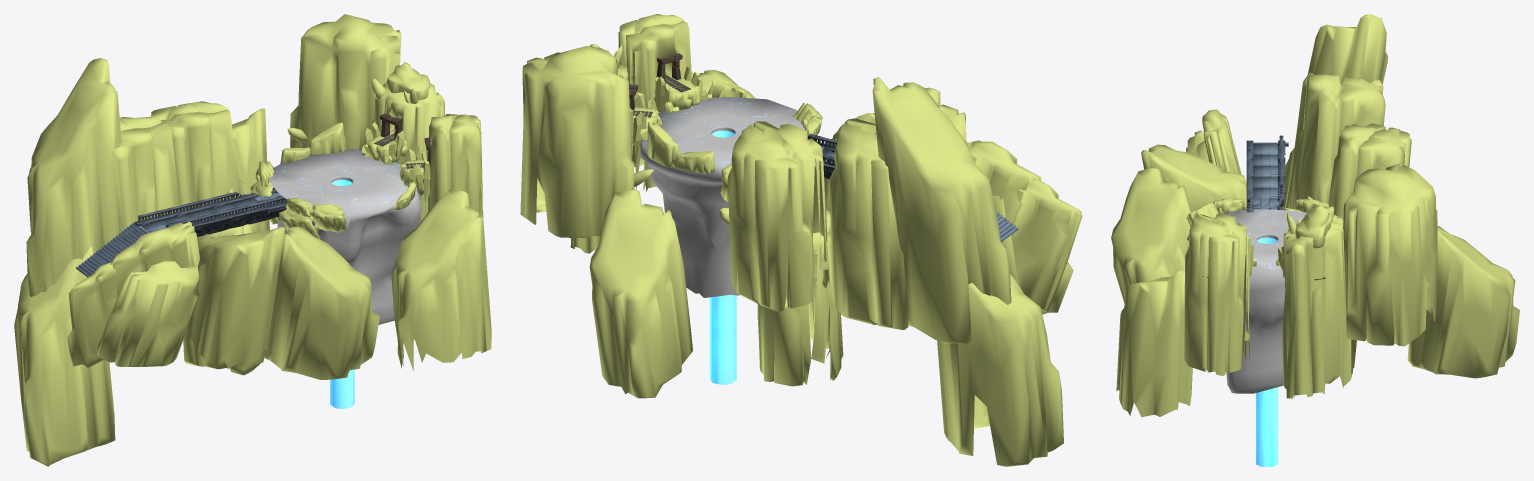
File: Boss1FG_New.fbx
The picture shows the model from 3 angles, left to right: view 1: azimuth 30°, elevation 25°; view 2: azimuth 150°, elevation 25°; view 3: azimuth 270°, elevation 25°; orthographic projection. The views are drawn at different scales.
Parts seen in each view (by area): view 1: Boss1.011, Boss1.002, Boss1.001, Boss1.009, Boss1.005, Boss1.007, Boss1.012; view 2: Boss1.002, Boss1.011, Boss1.001, Boss1.009, Boss1.006, Boss1.007, Boss1.005; view 3: Boss1.011, Boss1.002, Boss1.001, Boss1.005, Boss1.009.
Boxes of the visible parts, x1=… form: Boss1.011: x1=76, y1=14, x2=491, y2=408; Boss1.002: x1=14, y1=58, x2=269, y2=466; Boss1.001: x1=67, y1=221, x2=379, y2=379; Boss1.009: x1=428, y1=114, x2=483, y2=218; Boss1.005: x1=371, y1=62, x2=444, y2=219; Boss1.007: x1=405, y1=146, x2=430, y2=202; Boss1.012: x1=367, y1=129, x2=408, y2=162; Boss1.002: x1=589, y1=77, x2=1063, y2=466; Boss1.011: x1=520, y1=46, x2=1018, y2=384; Boss1.001: x1=824, y1=87, x2=1082, y2=314; Boss1.009: x1=618, y1=14, x2=691, y2=191; Boss1.006: x1=631, y1=71, x2=700, y2=110; Boss1.007: x1=655, y1=66, x2=703, y2=112; Boss1.005: x1=570, y1=44, x2=628, y2=253; Boss1.011: x1=1116, y1=135, x2=1437, y2=466; Boss1.002: x1=1281, y1=14, x2=1519, y2=378; Boss1.001: x1=1111, y1=109, x2=1246, y2=303; Boss1.005: x1=1282, y1=205, x2=1351, y2=398; Boss1.009: x1=1183, y1=213, x2=1250, y2=375.
Bounding box in the file's own units: 389 × 308 × 321.
